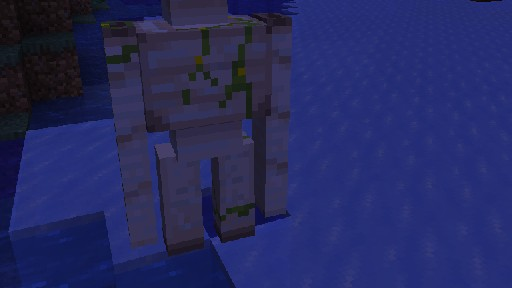iron_golem: (99, 0, 292, 256)
